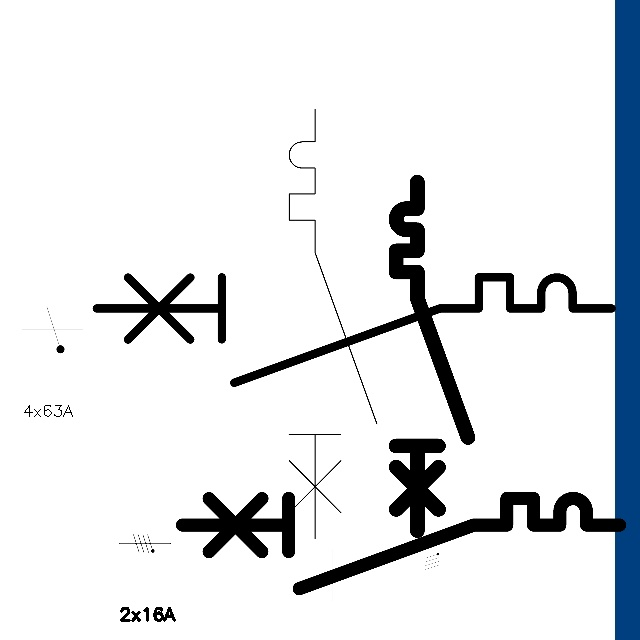interruptor_termomagnetico: (83, 264, 624, 396), (171, 487, 631, 599), (278, 98, 388, 550), (387, 173, 476, 539)
